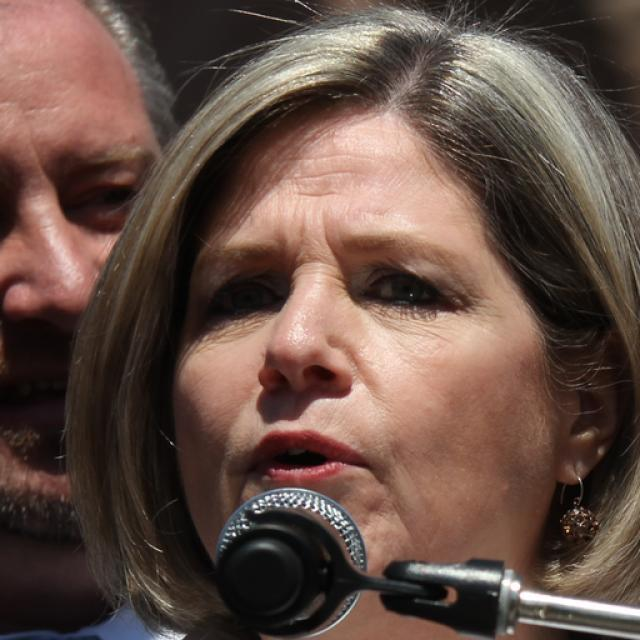fear: (169, 101, 555, 640)
